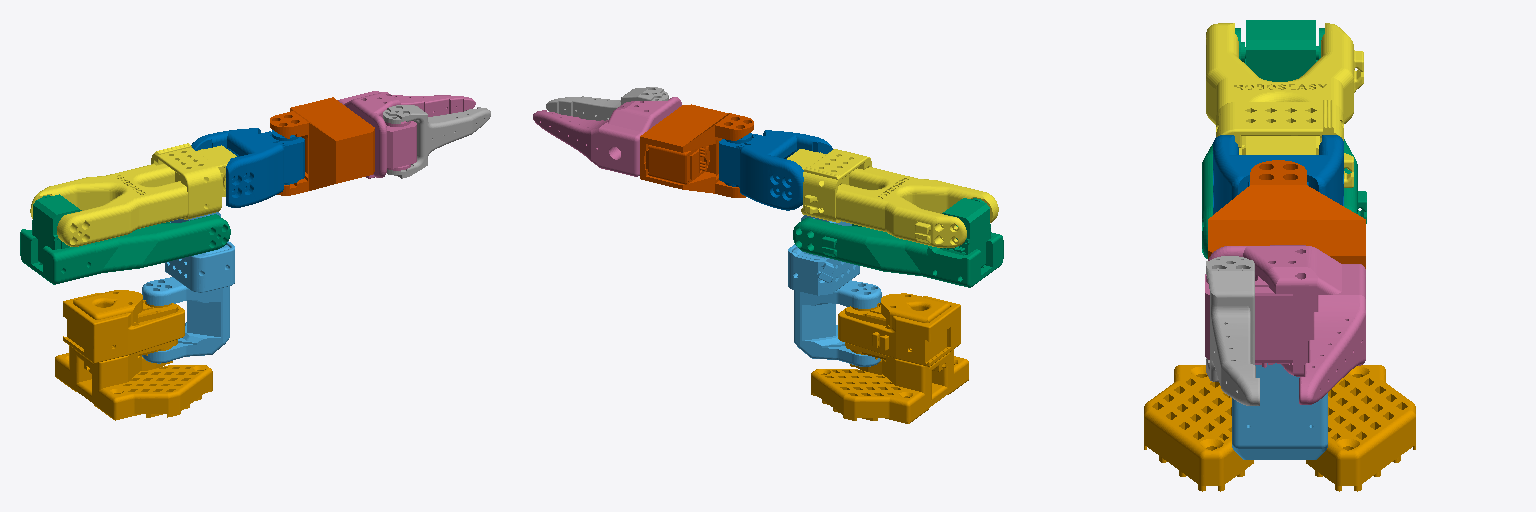
The robot description file, URDF, robot "soarm101_7dof":
<?xml version="1.0" encoding="utf-8"?>
<!-- 7축 SO-ARM101 (관절 6 + 그리퍼 1). "0. 7DoF_assembly.SLDASM" 에서 자동 생성 (scripts\build_urdf.py). q=0 = SolidWorks 어셈블리 자세 -->
<robot name="soarm101_7dof">

  <link name="base_link">
    <inertial>
      <origin xyz="-0.0235534758 -2.8490969e-05 0.0341959344" rpy="0 0 0"/>
      <mass value="0.139292"/>
      <inertia ixx="1.145890e-04" ixy="-3.297368e-07" ixz="1.208165e-06" iyy="1.228992e-04" iyz="4.829062e-08" izz="1.192639e-04"/>
    </inertial>
    <!-- Base_SO101.step-1 -->
    <visual>
      <origin xyz="-0.0451999987 6.25483585e-09 0" rpy="1.57079633 0 1.57079633"/>
      <geometry><mesh filename="../meshes/base_so101.stl"/></geometry>
      <material name="printed"/>
    </visual>
    <collision>
      <origin xyz="-0.0451999987 6.25483585e-09 0" rpy="1.57079633 0 1.57079633"/>
      <geometry><mesh filename="../meshes/base_so101.stl"/></geometry>
    </collision>
    <!-- Base_motor_holder_SO101.step-1 -->
    <visual>
      <origin xyz="-0.0451999989 6.25482721e-09 -0.0001" rpy="1.57079633 0 1.57079633"/>
      <geometry><mesh filename="../meshes/base_motor_holder_so101.stl"/></geometry>
      <material name="printed"/>
    </visual>
    <collision>
      <origin xyz="-0.0451999989 6.25482721e-09 -0.0001" rpy="1.57079633 0 1.57079633"/>
      <geometry><mesh filename="../meshes/base_motor_holder_so101.stl"/></geometry>
    </collision>
    <!-- 0. STS3215-1 -->
    <visual>
      <origin xyz="-0.012499999 6.25159851e-09 0.0461" rpy="0 0 4.42609292e-10"/>
      <geometry><mesh filename="../meshes/0_sts3215.stl"/></geometry>
      <material name="motor"/>
    </visual>
    <collision>
      <origin xyz="-0.012499999 6.25159851e-09 0.0461" rpy="0 0 4.42609292e-10"/>
      <geometry><mesh filename="../meshes/0_sts3215.stl"/></geometry>
    </collision>
  </link>

  <link name="shoulder_link">
    <inertial>
      <origin xyz="0.0309634877 1.7590935e-05 0.0211648492" rpy="0 0 0"/>
      <mass value="0.102259"/>
      <inertia ixx="9.761370e-05" ixy="-3.573479e-08" ixz="-1.817882e-06" iyy="9.697388e-05" iyz="-1.502109e-07" izz="2.362216e-05"/>
    </inertial>
    <!-- Rotation_Pitch_SO101.step-1 -->
    <visual>
      <origin xyz="-0.011999999 6.25184816e-09 -0.0464" rpy="1.57079633 0 -3.14159265"/>
      <geometry><mesh filename="../meshes/rotation_pitch_so101.stl"/></geometry>
      <material name="printed"/>
    </visual>
    <collision>
      <origin xyz="-0.011999999 6.25184816e-09 -0.0464" rpy="1.57079633 0 -3.14159265"/>
      <geometry><mesh filename="../meshes/rotation_pitch_so101.stl"/></geometry>
    </collision>
    <!-- Motor_holder_SO101_Base-1 -->
    <visual>
      <origin xyz="0.067800001 6.28716907e-09 -0.0158499073" rpy="1.57079633 1.57079633 0"/>
      <geometry><mesh filename="../meshes/motor_holder_so101_base.stl"/></geometry>
      <material name="printed"/>
    </visual>
    <collision>
      <origin xyz="0.067800001 6.28716907e-09 -0.0158499073" rpy="1.57079633 1.57079633 0"/>
      <geometry><mesh filename="../meshes/motor_holder_so101_base.stl"/></geometry>
    </collision>
    <!-- 0. STS3215-2 -->
    <visual>
      <origin xyz="0.030600001 0.000400006271 0.0417" rpy="1.57079633 -1.57079633 0"/>
      <geometry><mesh filename="../meshes/0_sts3215.stl"/></geometry>
      <material name="motor"/>
    </visual>
    <collision>
      <origin xyz="0.030600001 0.000400006271 0.0417" rpy="1.57079633 -1.57079633 0"/>
      <geometry><mesh filename="../meshes/0_sts3215.stl"/></geometry>
    </collision>
  </link>

  <link name="upper_arm_link">
    <inertial>
      <origin xyz="-0.0839047375 -0.0159114209 0.00659733585" rpy="0 0 0"/>
      <mass value="0.122563"/>
      <inertia ixx="5.106971e-05" ixy="-1.315039e-07" ixz="2.342329e-05" iyy="1.841269e-04" iyz="-5.543209e-08" izz="1.957169e-04"/>
    </inertial>
    <!-- Upper_arm_SO101-2 -->
    <visual>
      <origin xyz="-0.0650849954 -0.0161 -0.011999999" rpy="1.57079633 0 4.42613814e-10"/>
      <geometry><mesh filename="../meshes/upper_arm_so101.stl"/></geometry>
      <material name="printed"/>
    </visual>
    <collision>
      <origin xyz="-0.0650849954 -0.0161 -0.011999999" rpy="1.57079633 0 4.42613814e-10"/>
      <geometry><mesh filename="../meshes/upper_arm_so101.stl"/></geometry>
    </collision>
    <!-- 0. STS3215-3 -->
    <visual>
      <origin xyz="-0.112569984 -0.01555 0.015500001" rpy="1.57079633 -1.57079633 0"/>
      <geometry><mesh filename="../meshes/0_sts3215.stl"/></geometry>
      <material name="motor"/>
    </visual>
    <collision>
      <origin xyz="-0.112569984 -0.01555 0.015500001" rpy="1.57079633 -1.57079633 0"/>
      <geometry><mesh filename="../meshes/0_sts3215.stl"/></geometry>
    </collision>
  </link>

  <link name="lower_arm_link">
    <inertial>
      <origin xyz="0.090828057 -0.0160616737 0.00261144559" rpy="0 0 0"/>
      <mass value="0.116177"/>
      <inertia ixx="3.409122e-05" ixy="-1.594975e-06" ixz="-9.088457e-06" iyy="1.841579e-04" iyz="-7.076128e-08" izz="2.034303e-04"/>
    </inertial>
    <!-- 6. Under_arm_ver3-1 -->
    <visual>
      <origin xyz="0.0648499021 -0.0161 -0.0319895261" rpy="-1.57079633 0 -3.14159265"/>
      <geometry><mesh filename="../meshes/6_under_arm_ver3.stl"/></geometry>
      <material name="printed"/>
    </visual>
    <collision>
      <origin xyz="0.0648499021 -0.0161 -0.0319895261" rpy="-1.57079633 0 -3.14159265"/>
      <geometry><mesh filename="../meshes/6_under_arm_ver3.stl"/></geometry>
    </collision>
    <!-- Motor_holder_SO101_Wrist-1 -->
    <visual>
      <origin xyz="0.064849903 -0.0161 -0.0319895289" rpy="-1.57079633 0 -3.14159265"/>
      <geometry><mesh filename="../meshes/motor_holder_so101_wrist.stl"/></geometry>
      <material name="printed"/>
    </visual>
    <collision>
      <origin xyz="0.064849903 -0.0161 -0.0319895289" rpy="-1.57079633 0 -3.14159265"/>
      <geometry><mesh filename="../meshes/motor_holder_so101_wrist.stl"/></geometry>
    </collision>
    <!-- 0. STS3215-4 -->
    <visual>
      <origin xyz="0.12239981 -0.0156000005 0.00521047114" rpy="1.57079633 0 4.42614018e-10"/>
      <geometry><mesh filename="../meshes/0_sts3215.stl"/></geometry>
      <material name="motor"/>
    </visual>
    <collision>
      <origin xyz="0.12239981 -0.0156000005 0.00521047114" rpy="1.57079633 0 4.42614018e-10"/>
      <geometry><mesh filename="../meshes/0_sts3215.stl"/></geometry>
    </collision>
  </link>

  <link name="wrist_flex_link">
    <inertial>
      <origin xyz="0.0313315361 -0.0163359856 0.000197151195" rpy="0 0 0"/>
      <mass value="0.075818"/>
      <inertia ixx="1.783862e-05" ixy="9.240620e-07" ixz="3.772686e-08" iyy="2.859762e-05" iyz="-2.814949e-08" izz="3.110664e-05"/>
    </inertial>
    <!-- 7DoF_1_ver8_Dumy-1 -->
    <visual>
      <origin xyz="-0.404324493 -0.116360001 -0.0010754171" rpy="4.42614081e-10 -1.57079633 0"/>
      <geometry><mesh filename="../meshes/7dof_1_ver8_dumy.stl"/></geometry>
      <material name="printed"/>
    </visual>
    <collision>
      <origin xyz="-0.404324493 -0.116360001 -0.0010754171" rpy="4.42614081e-10 -1.57079633 0"/>
      <geometry><mesh filename="../meshes/7dof_1_ver8_dumy.stl"/></geometry>
    </collision>
    <!-- 0. STS3215-5 -->
    <visual>
      <origin xyz="0.0379737596 -0.0166 6.25715302e-09" rpy="0 0 4.42595894e-10"/>
      <geometry><mesh filename="../meshes/0_sts3215.stl"/></geometry>
      <material name="motor"/>
    </visual>
    <collision>
      <origin xyz="0.0379737596 -0.0166 6.25715302e-09" rpy="0 0 4.42595894e-10"/>
      <geometry><mesh filename="../meshes/0_sts3215.stl"/></geometry>
    </collision>
  </link>

  <link name="wrist_yaw_link">
    <inertial>
      <origin xyz="0.0356074254 0.00673313501 -0.0179027763" rpy="0 0 0"/>
      <mass value="0.087889"/>
      <inertia ixx="3.395109e-05" ixy="-1.514982e-06" ixz="8.492321e-08" iyy="2.418961e-05" iyz="1.697626e-07" izz="3.995978e-05"/>
    </inertial>
    <!-- 7DoF_2_ver8_Dumy-1 -->
    <visual>
      <origin xyz="-0.404324493 -0.00107541728 0.0820600004" rpy="-1.57079633 0 1.57079633"/>
      <geometry><mesh filename="../meshes/7dof_2_ver8_dumy.stl"/></geometry>
      <material name="printed"/>
    </visual>
    <collision>
      <origin xyz="-0.404324493 -0.00107541728 0.0820600004" rpy="-1.57079633 0 1.57079633"/>
      <geometry><mesh filename="../meshes/7dof_2_ver8_dumy.stl"/></geometry>
    </collision>
    <!-- 0. STS3215-6 -->
    <visual>
      <origin xyz="0.0374696629 0.0130000063 -0.0184" rpy="-1.57079633 0 -1.57079633"/>
      <geometry><mesh filename="../meshes/0_sts3215.stl"/></geometry>
      <material name="motor"/>
    </visual>
    <collision>
      <origin xyz="0.0374696629 0.0130000063 -0.0184" rpy="-1.57079633 0 -1.57079633"/>
      <geometry><mesh filename="../meshes/0_sts3215.stl"/></geometry>
    </collision>
  </link>

  <link name="gripper_link">
    <inertial>
      <origin xyz="0.0253788613 0.000626571027 0.000184402517" rpy="0 0 0"/>
      <mass value="0.087600"/>
      <inertia ixx="3.555905e-05" ixy="-6.307946e-06" ixz="4.725557e-08" iyy="2.945128e-05" iyz="3.141729e-07" izz="4.590520e-05"/>
    </inertial>
    <!-- Wrist_Roll_Follower_SO101-1 -->
    <visual>
      <origin xyz="-0.000949706453 -9.6880126e-10 -0.000218220737" rpy="-1.57079633 0 -1.57079633"/>
      <geometry><mesh filename="../meshes/wrist_roll_follower_so101.stl"/></geometry>
      <material name="printed"/>
    </visual>
    <collision>
      <origin xyz="-0.000949706453 -9.6880126e-10 -0.000218220737" rpy="-1.57079633 0 -1.57079633"/>
      <geometry><mesh filename="../meshes/wrist_roll_follower_so101.stl"/></geometry>
    </collision>
    <!-- 0. STS3215-7 -->
    <visual>
      <origin xyz="0.0233749986 -0.00770000096 -6.25719395e-09" rpy="0 0 -1.57079633"/>
      <geometry><mesh filename="../meshes/0_sts3215.stl"/></geometry>
      <material name="motor"/>
    </visual>
    <collision>
      <origin xyz="0.0233749986 -0.00770000096 -6.25719395e-09" rpy="0 0 -1.57079633"/>
      <geometry><mesh filename="../meshes/0_sts3215.stl"/></geometry>
    </collision>
  </link>

  <link name="jaw_link">
    <inertial>
      <origin xyz="0.0299396669 0.00154114443 -0.0192735344" rpy="0 0 0"/>
      <mass value="0.012000"/>
      <inertia ixx="1.889811e-06" ixy="-3.212315e-07" ixz="-1.087924e-07" iyy="6.581443e-06" iyz="-5.714769e-09" izz="5.254198e-06"/>
    </inertial>
    <!-- Moving_Jaw_SO101.step-1 -->
    <visual>
      <origin xyz="6.25713142e-09 -9.68431095e-10 -0.0189" rpy="3.14159265 0 -1.57079633"/>
      <geometry><mesh filename="../meshes/moving_jaw_so101.stl"/></geometry>
      <material name="printed"/>
    </visual>
    <collision>
      <origin xyz="6.25713142e-09 -9.68431095e-10 -0.0189" rpy="3.14159265 0 -1.57079633"/>
      <geometry><mesh filename="../meshes/moving_jaw_so101.stl"/></geometry>
    </collision>
  </link>

  <joint name="shoulder_pan" type="revolute">
    <parent link="base_link"/>
    <child link="shoulder_link"/>
    <origin xyz="0 0 0.0648" rpy="0 0 0"/>
    <axis xyz="0 0 1"/>
    <limit lower="-3.001966" upper="3.036873" effort="2.94" velocity="4.71"/>
  </joint>

  <joint name="shoulder_lift" type="revolute">
    <parent link="shoulder_link"/>
    <child link="upper_arm_link"/>
    <origin xyz="0.0306000072 0.0160000063 0.054199999" rpy="0 0 0"/>
    <axis xyz="0 -1 0"/>
    <limit lower="-1.396263" upper="0.383972" effort="2.94" velocity="4.71"/>
  </joint>

  <joint name="elbow_flex" type="revolute">
    <parent link="upper_arm_link"/>
    <child link="lower_arm_link"/>
    <origin xyz="-0.112569978 4.99999502e-05 0.028" rpy="0 0 0"/>
    <axis xyz="0 -1 0"/>
    <limit lower="-0.034907" upper="3.141593" effort="2.94" velocity="4.71"/>
  </joint>

  <joint name="wrist_flex" type="revolute">
    <parent link="lower_arm_link"/>
    <child link="wrist_flex_link"/>
    <origin xyz="0.134899809 -4.52891072e-10 0.00521046488" rpy="0 0 0"/>
    <axis xyz="0 -1 0"/>
    <limit lower="-1.151917" upper="1.431170" effort="2.94" velocity="4.71"/>
  </joint>

  <joint name="wrist_yaw" type="revolute">
    <parent link="wrist_flex_link"/>
    <child link="wrist_yaw_link"/>
    <origin xyz="0.0504737587 -0.0166000062 0.0187000063" rpy="0 0 0"/>
    <axis xyz="0 0 1"/>
    <limit lower="-1.466077" upper="1.431170" effort="2.94" velocity="4.71"/>
  </joint>

  <joint name="wrist_roll" type="revolute">
    <parent link="wrist_yaw_link"/>
    <child link="gripper_link"/>
    <origin xyz="0.0561696629 0.00050000725 -0.0183999937" rpy="0 0 0"/>
    <axis xyz="1 0 0"/>
    <limit lower="-3.141593" upper="3.141593" effort="2.94" velocity="4.71"/>
  </joint>

  <joint name="gripper" type="revolute">
    <parent link="gripper_link"/>
    <child link="jaw_link"/>
    <origin xyz="0.0233749924 -0.0202 0.0186999937" rpy="0 0 0"/>
    <axis xyz="0 0 -1"/>
    <limit lower="-0.139626" upper="0.628319" effort="2.94" velocity="4.71"/>
  </joint>

</robot>

--- What the picture shows (computed from the rendered views, not written in the file) ---
3 views of the same robot in one strip: view 1: azimuth 30°, elevation 25°; view 2: azimuth 150°, elevation 25°; view 3: azimuth 270°, elevation 25° (orthographic).
Robot: soarm101_7dof — 8 links, 7 joints (7 revolute); root link base_link; default pose: every joint at zero.
Links seen in each view (by area): view 1: base_link, lower_arm_link, upper_arm_link, shoulder_link, wrist_yaw_link, wrist_flex_link, gripper_link, jaw_link; view 2: base_link, lower_arm_link, upper_arm_link, wrist_yaw_link, shoulder_link, wrist_flex_link, gripper_link, jaw_link; view 3: base_link, gripper_link, lower_arm_link, wrist_yaw_link, shoulder_link, jaw_link, upper_arm_link, wrist_flex_link.
Link boxes in pixels (bbox=[...]): base_link: bbox=[55, 290, 212, 420]; lower_arm_link: bbox=[30, 143, 236, 246]; upper_arm_link: bbox=[20, 194, 230, 284]; shoulder_link: bbox=[142, 212, 234, 363]; wrist_yaw_link: bbox=[270, 97, 374, 195]; wrist_flex_link: bbox=[191, 128, 304, 207]; gripper_link: bbox=[338, 91, 475, 178]; jaw_link: bbox=[383, 105, 490, 178]; base_link: bbox=[811, 293, 968, 423]; lower_arm_link: bbox=[787, 149, 998, 247]; upper_arm_link: bbox=[793, 198, 1003, 287]; wrist_yaw_link: bbox=[640, 104, 753, 197]; shoulder_link: bbox=[788, 215, 881, 366]; wrist_flex_link: bbox=[719, 130, 832, 210]; gripper_link: bbox=[533, 97, 681, 176]; jaw_link: bbox=[546, 87, 668, 120]; base_link: bbox=[1144, 365, 1415, 491]; gripper_link: bbox=[1205, 245, 1365, 404]; lower_arm_link: bbox=[1206, 23, 1363, 187]; wrist_yaw_link: bbox=[1208, 160, 1365, 268]; shoulder_link: bbox=[1232, 363, 1327, 459]; jaw_link: bbox=[1206, 256, 1259, 405]; upper_arm_link: bbox=[1202, 20, 1366, 258]; wrist_flex_link: bbox=[1213, 135, 1343, 214].
Bounding box of the posed robot: 0.3645 × 0.1109 × 0.1799 m (x, y, z).
18 mesh visuals loaded from 12 distinct referenced files (12 binary STL).
